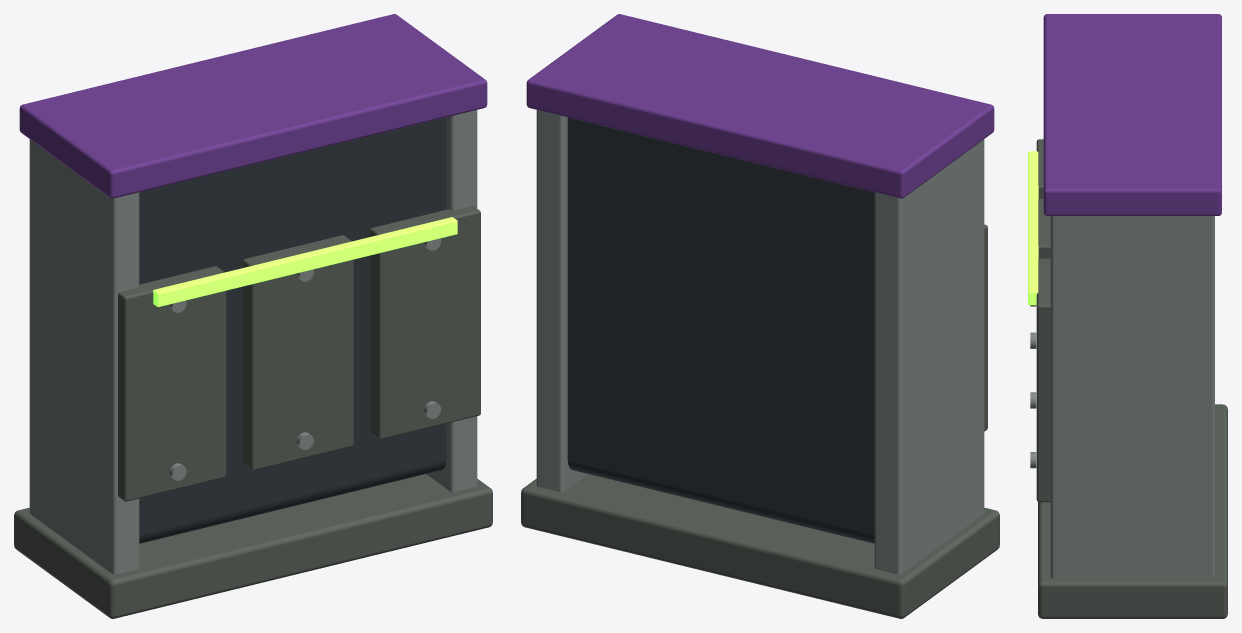
File: wall_l04.glb
3 views of the same model, side by side, from view 1: azimuth 30°, elevation 25°; view 2: azimuth 150°, elevation 25°; view 3: azimuth 270°, elevation 25° (orthographic). The views are drawn at different scales.
Parts seen in each view (by area): view 1: separate_face_plate (×3), armoured_barrier, tier_cap, reinforced_terminal (×2), continuous_footing, powered_safety_rail; view 2: armoured_barrier, reinforced_terminal (×2), tier_cap, continuous_footing, separate_face_plate; view 3: reinforced_terminal, tier_cap, continuous_footing, separate_face_plate (×3), powered_safety_rail.
Part boxes in pixels (x1,y1,x2,y2): separate_face_plate (×3): (118, 206, 480, 501); armoured_barrier: (139, 117, 446, 543); tier_cap: (19, 14, 487, 198); reinforced_terminal (×2): (29, 110, 477, 574); continuous_footing: (14, 474, 492, 618); powered_safety_rail: (153, 217, 457, 307); armoured_barrier: (567, 117, 874, 543); reinforced_terminal (×2): (536, 110, 984, 574); tier_cap: (526, 14, 994, 198); continuous_footing: (521, 474, 999, 618); separate_face_plate: (984, 224, 987, 431); reinforced_terminal: (1050, 216, 1214, 578); tier_cap: (1043, 14, 1221, 215); continuous_footing: (1038, 404, 1227, 618); separate_face_plate (×3): (1036, 139, 1050, 502); powered_safety_rail: (1028, 151, 1038, 305).
Size of the model in its own units: 1.84 by 2.05 by 0.8625.
